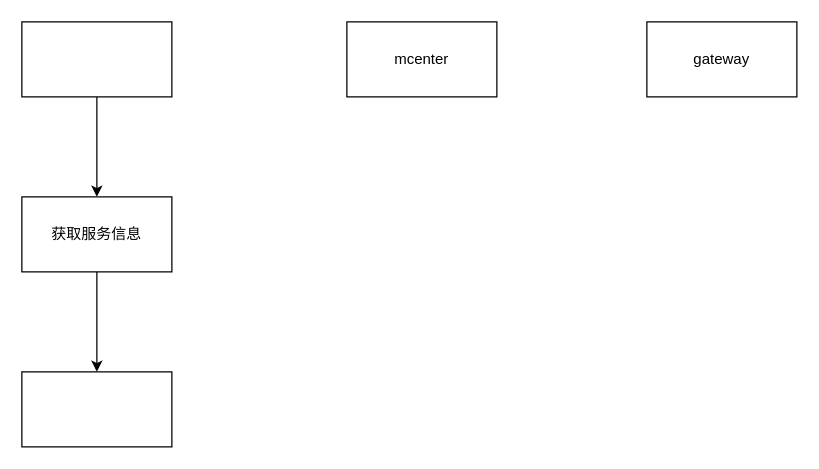
This 819x469 diagram has some shape labels left out. The shapes that lost their labels are listed below. From the top down, each one's centre as x and y in pixels, then its label:
point (96, 59): mpaas.deploy
point (96, 409): 注册服务信息
